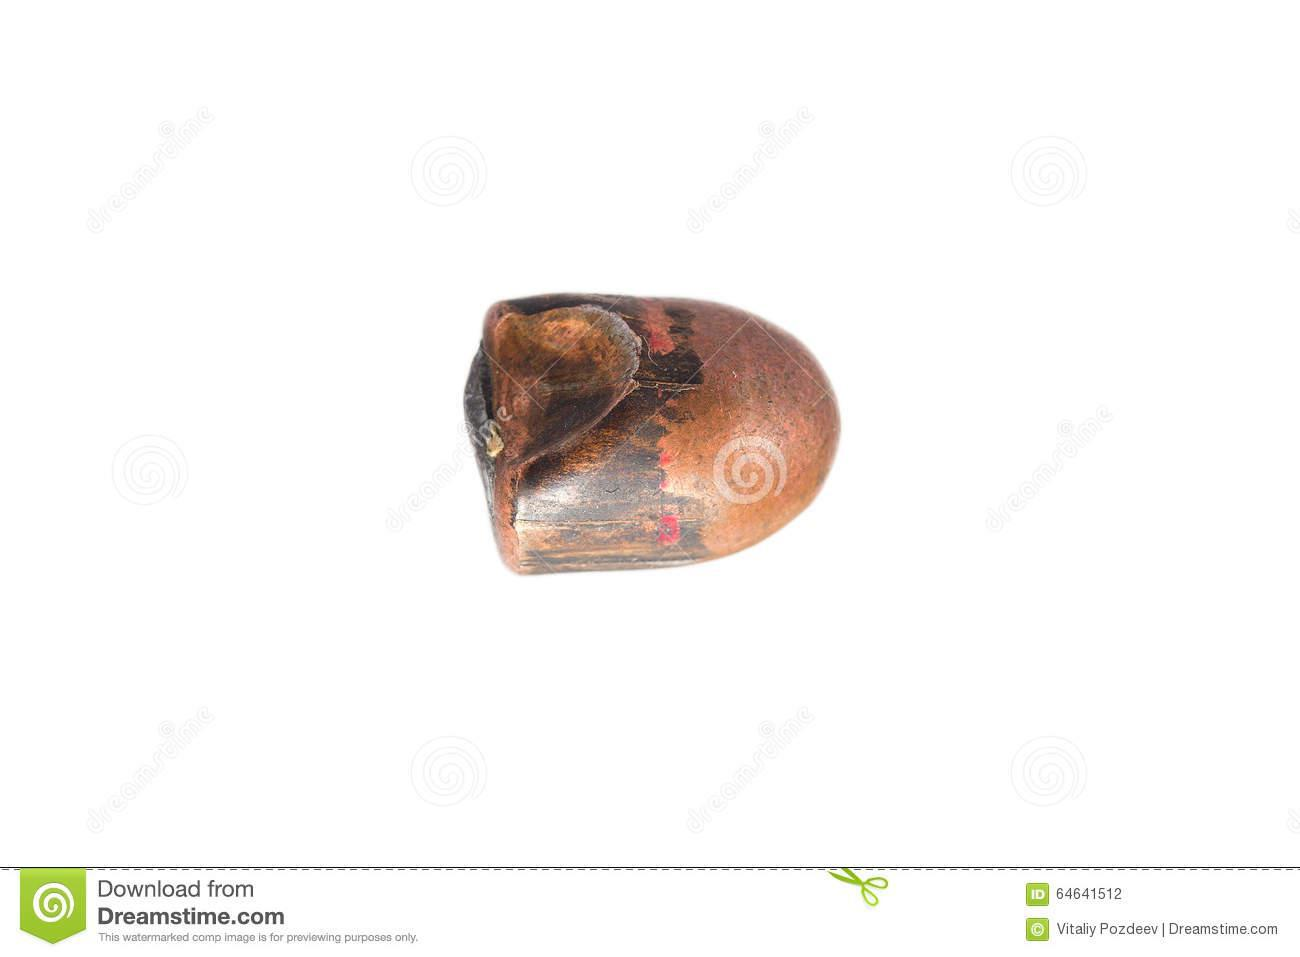Bullet: (456, 268, 855, 613)
